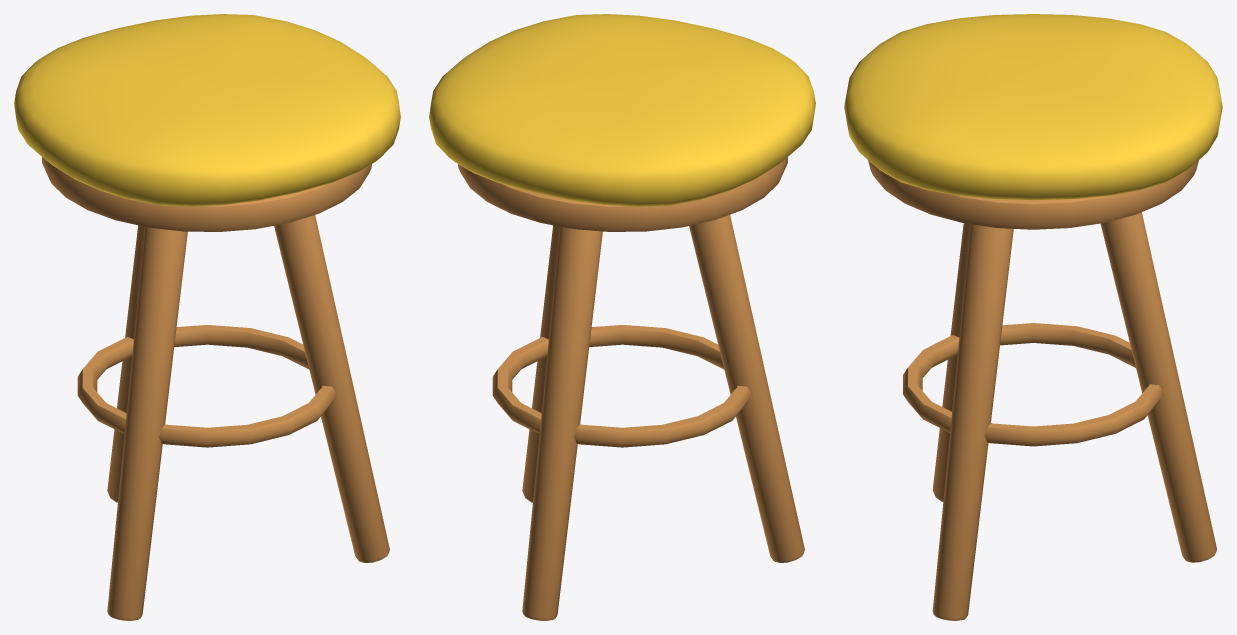
File: banqueta_campestre_amarelo.glb
The picture shows the model from 3 angles, left to right: view 1: azimuth 30°, elevation 25°; view 2: azimuth 150°, elevation 25°; view 3: azimuth 270°, elevation 25°; orthographic projection.
Visible parts, largest first — view 1: banqueta_campestre_amarelo; view 2: banqueta_campestre_amarelo; view 3: banqueta_campestre_amarelo.
Boxes of the visible parts, bbox=[...] form: banqueta_campestre_amarelo: bbox=[14, 14, 400, 620]; banqueta_campestre_amarelo: bbox=[429, 14, 815, 620]; banqueta_campestre_amarelo: bbox=[844, 14, 1222, 620].
Size of the model in its own units: 0.34 by 0.4825 by 0.34.
1 material, 1 textured.
